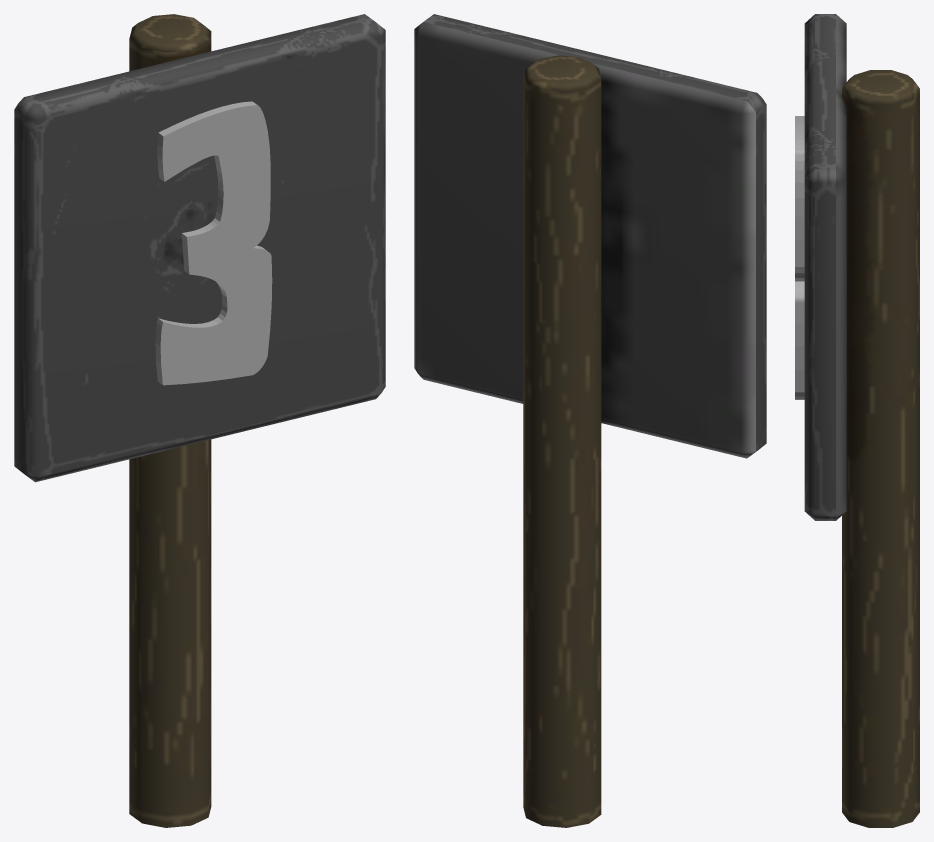
The model's file is sign3.fbx.
The picture shows the model from 3 angles, left to right: view 1: azimuth 30°, elevation 25°; view 2: azimuth 150°, elevation 25°; view 3: azimuth 270°, elevation 25°; orthographic projection. The views are drawn at different scales.
Parts seen in each view (by area): view 1: sign3; view 2: sign3; view 3: sign3.
Part boxes in pixels (x1,y1,x2,y2): sign3: (14, 14, 385, 827); sign3: (414, 14, 766, 827); sign3: (795, 14, 919, 827).
Size of the model in its own units: 1 by 2.07 by 0.3221.
1 material, 1 textured.
